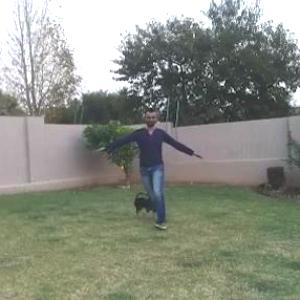land: (95, 112, 195, 230)
